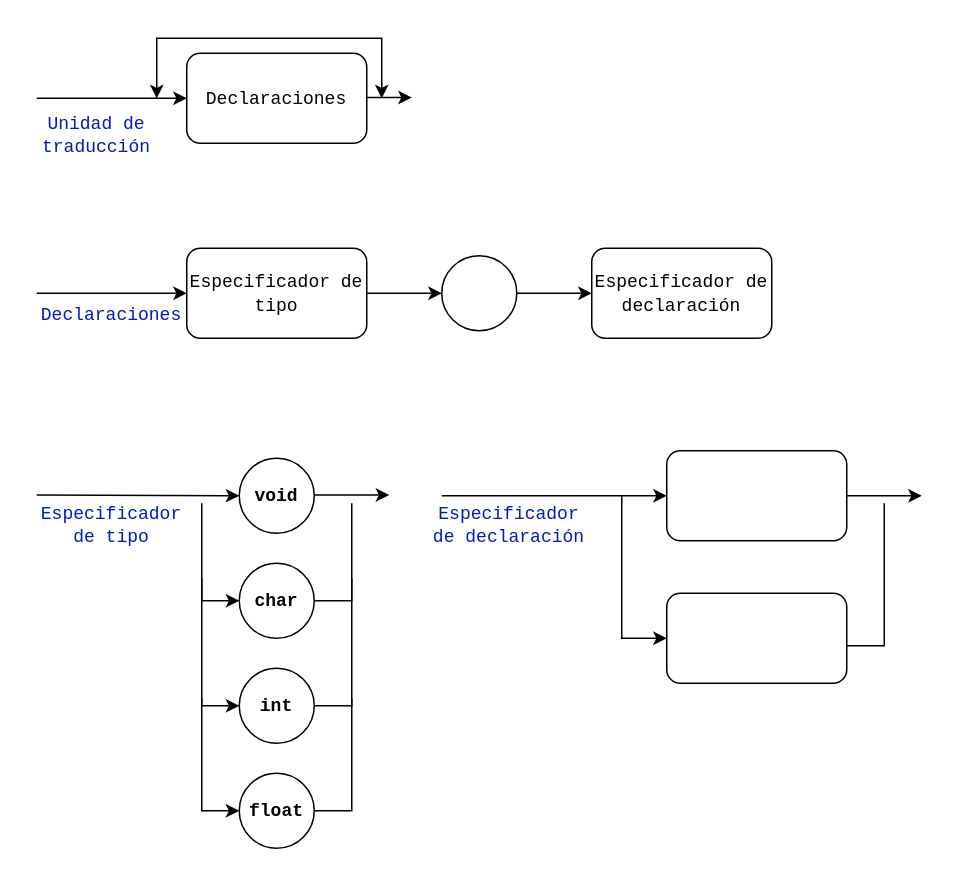
Image size: 960x875. Some labels were removed from this diagram. The centre of each missing label's shape, as x and y in pixels:
"declaración de variable" goes at [756,637].
"definición de función" goes at [756,495].
"ident" goes at [478,292].
